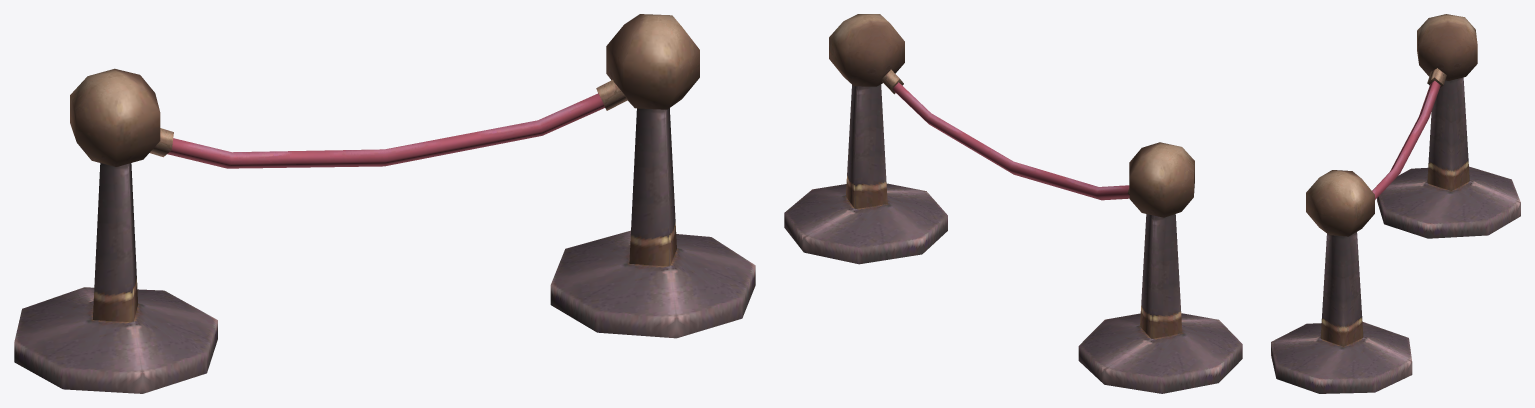
File: P_bhobject_1001.fbx
3 renders of one model, left to right at view 1: azimuth 30°, elevation 25°; view 2: azimuth 150°, elevation 25°; view 3: azimuth 270°, elevation 25°, orthographic. The views are drawn at different scales.
Parts seen in each view (by area): view 1: P_bhobject_1001; view 2: P_bhobject_1001; view 3: P_bhobject_1001.
Boxes of the visible parts, x1,y1,x2,y2 form: P_bhobject_1001: (14, 14, 755, 393); P_bhobject_1001: (784, 14, 1242, 393); P_bhobject_1001: (1271, 14, 1520, 393).
Bounding box in the file's own units: 2.4 × 1 × 1.18.
Materials: 1 (1 with a texture image).
